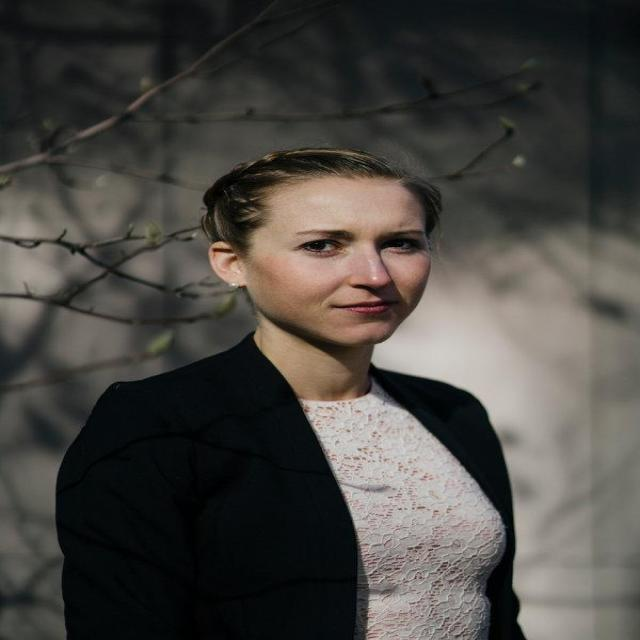mobile_phonerotation: (53, 145, 527, 638)
